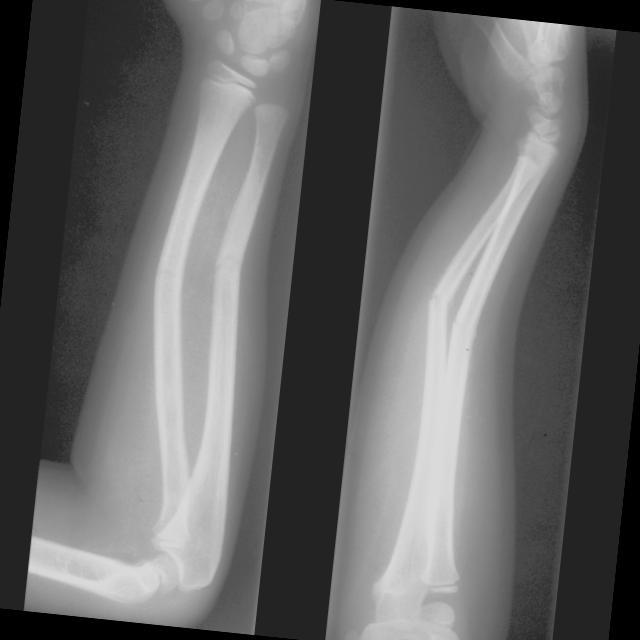GreenStick Fracture: (427, 278, 455, 316), (213, 244, 245, 276)
